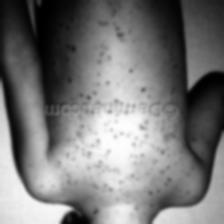Non-Cancerous Skin Condition: (41, 118, 195, 194), (65, 0, 171, 94), (88, 203, 146, 224)
